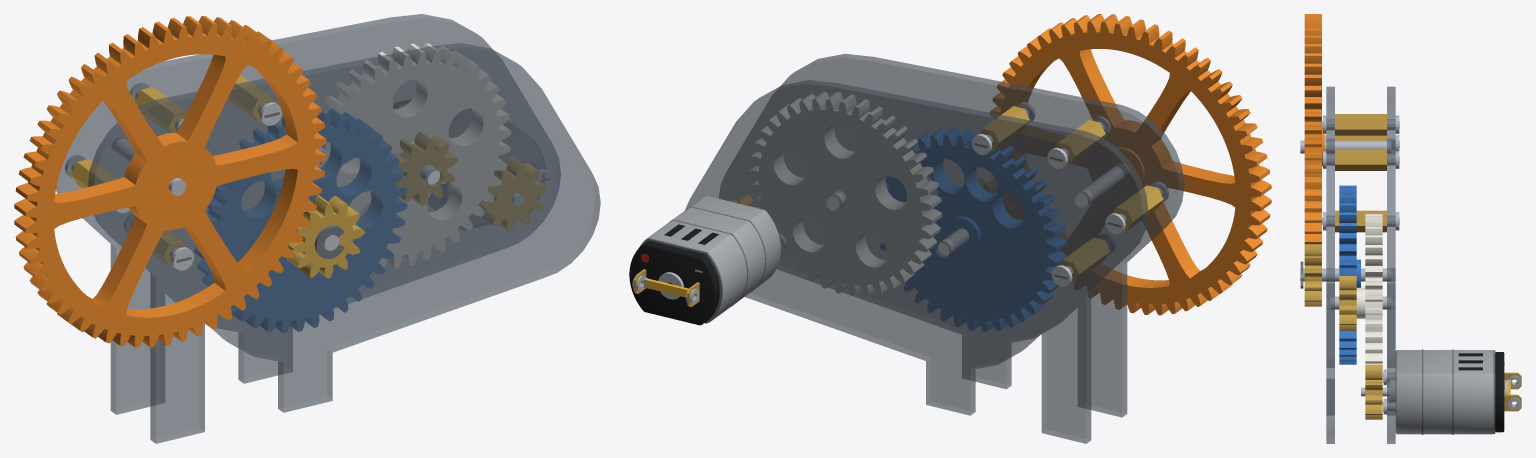
Rendered from drive.glb.
3 views of the same model, side by side, from view 1: azimuth 30°, elevation 25°; view 2: azimuth 150°, elevation 25°; view 3: azimuth 270°, elevation 25° (orthographic). The views are drawn at different scales.
Visible parts, largest first — view 1: chassis, gear_G3, gear_G1P2, gear_G2P3, gear_P1, motor; view 2: chassis, gear_G3, gear_G1P2, gear_G2P3, motor; view 3: motor, chassis, gear_G3, gear_G1P2, gear_G2P3, gear_P1.
Part boxes in pixels (x1,y1,x2,y2): chassis: [56, 14, 600, 443]; gear_G3: [14, 16, 326, 347]; gear_G1P2: [316, 43, 510, 268]; gear_G2P3: [194, 108, 406, 332]; gear_P1: [479, 157, 546, 231]; motor: [446, 138, 552, 229]; chassis: [685, 54, 1184, 443]; gear_G3: [990, 14, 1271, 315]; gear_G1P2: [749, 92, 941, 295]; gear_G2P3: [879, 127, 1066, 331]; motor: [629, 196, 786, 325]; motor: [1383, 349, 1521, 434]; chassis: [1322, 86, 1399, 443]; gear_G3: [1300, 14, 1390, 244]; gear_G1P2: [1331, 214, 1390, 364]; gear_G2P3: [1300, 185, 1390, 364]; gear_P1: [1361, 364, 1389, 419].
Size of the model in its own units: 0.1201 by 0.0827 by 0.051.
